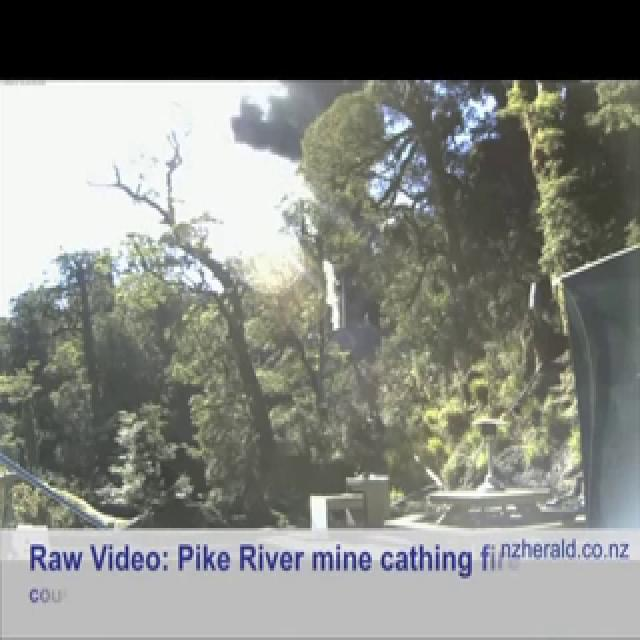explosion: (86, 43, 486, 531)
